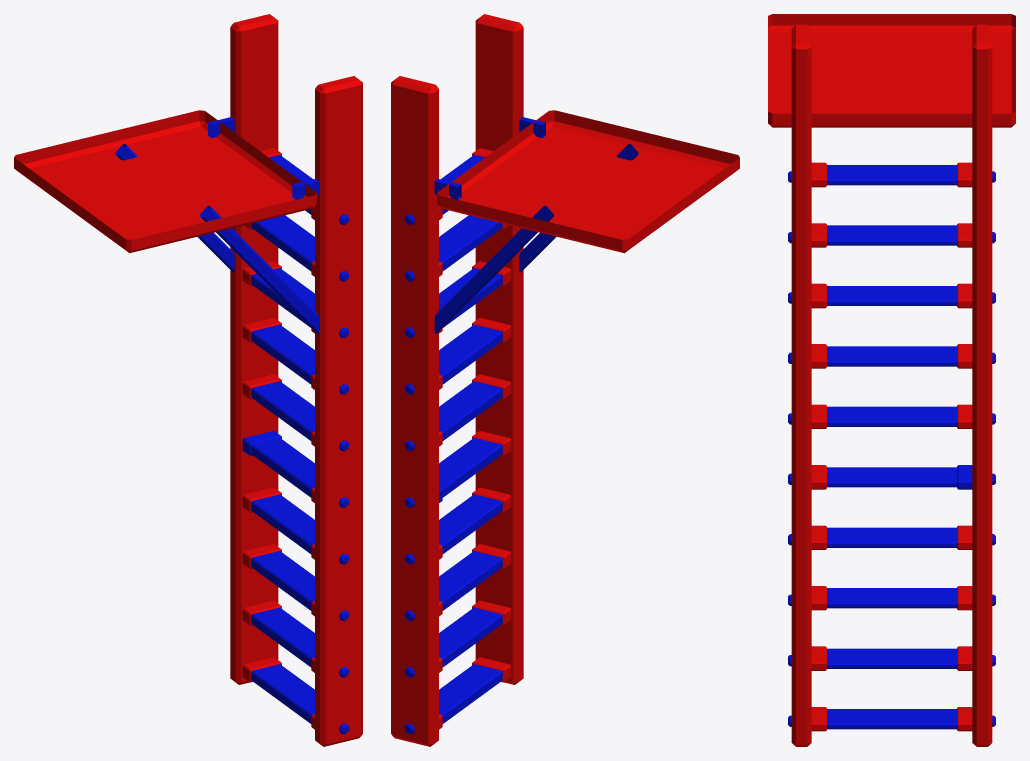
The model's file is Ladder.fbx.
The picture shows the model from 3 angles, left to right: view 1: azimuth 30°, elevation 25°; view 2: azimuth 150°, elevation 25°; view 3: azimuth 270°, elevation 25°; orthographic projection. The views are drawn at different scales.
Visible parts, largest first — view 1: Ladder; view 2: Ladder; view 3: Ladder.
Part boxes in pixels (x1=…): Ladder: x1=14, y1=14, x2=362, y2=746; Ladder: x1=391, y1=14, x2=739, y2=746; Ladder: x1=768, y1=14, x2=1015, y2=746.
Bounding box in the file's own units: 0.6882 × 0.5576 × 1.75.
